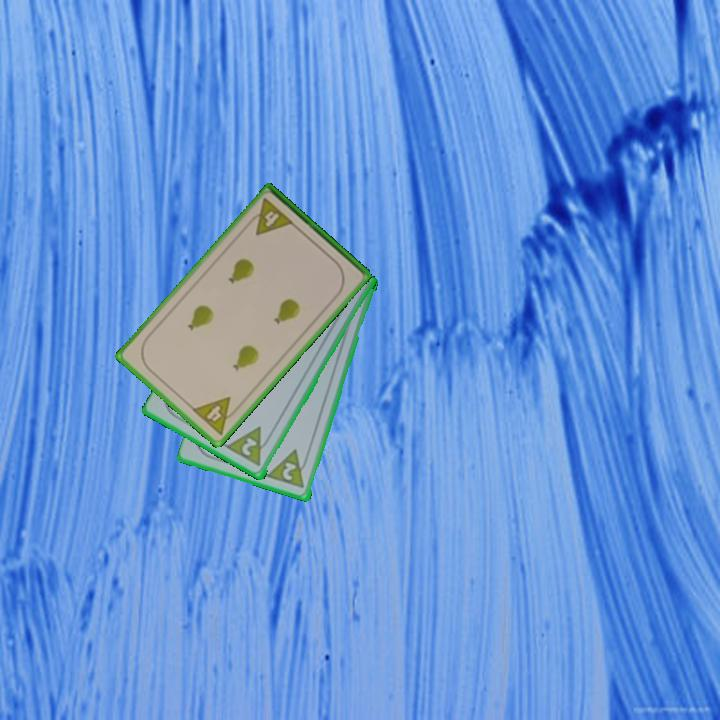2p: (224, 423, 275, 470), (265, 446, 312, 491)
4p: (188, 393, 243, 438), (243, 195, 297, 238)
